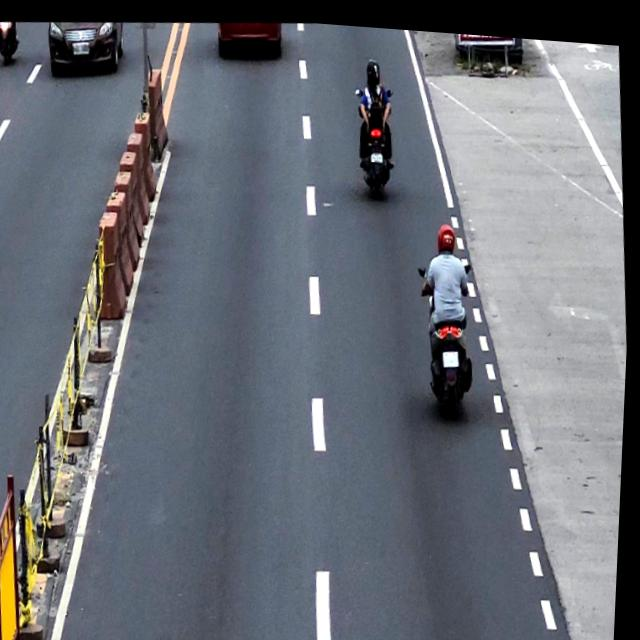License-Plate: (444, 342, 462, 360), (371, 144, 385, 158)
Motorcycle: (413, 250, 484, 417), (352, 79, 400, 195)
